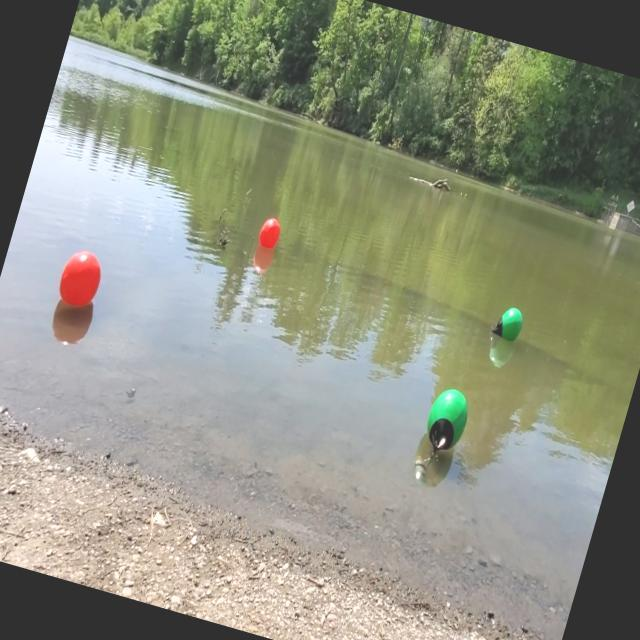buoy: (416, 382, 474, 462), (52, 242, 107, 316), (489, 301, 526, 345), (254, 214, 285, 256)
